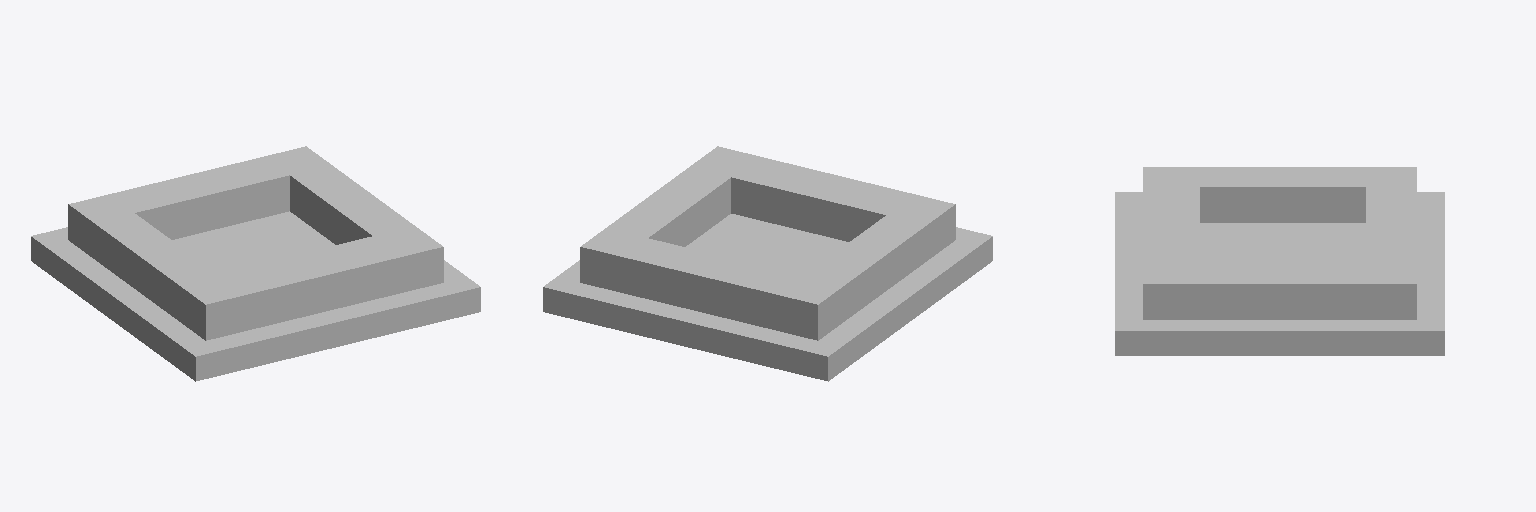
File: treebox.obj
The picture shows the model from 3 angles: view 1: azimuth 30°, elevation 25°; view 2: azimuth 150°, elevation 25°; view 3: azimuth 270°, elevation 25°; orthographic projection.
Parts seen in each view (by area): view 1: objMesh; view 2: objMesh; view 3: objMesh.
Boxes of the visible parts, x1=… form: objMesh: x1=31, y1=146, x2=480, y2=381; objMesh: x1=543, y1=146, x2=992, y2=381; objMesh: x1=1115, y1=167, x2=1444, y2=355.
Size of the model in its own units: 3 by 0.6123 by 3.